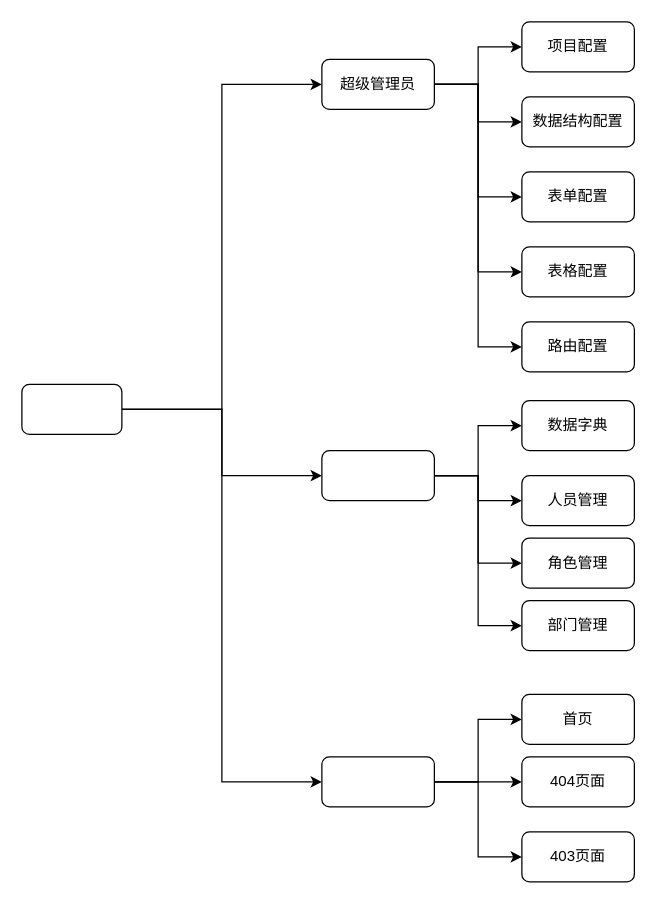
Some shapes in this 656 by 904 pixel diagram are drawn without their labels. The shapes that lost their labels are listed below. From the top down, each one's centre as x and y in pixels, then its label:
At (x=71, y=408): "路由".
At (x=377, y=475): "管理员".
At (x=377, y=781): "静态路由".
